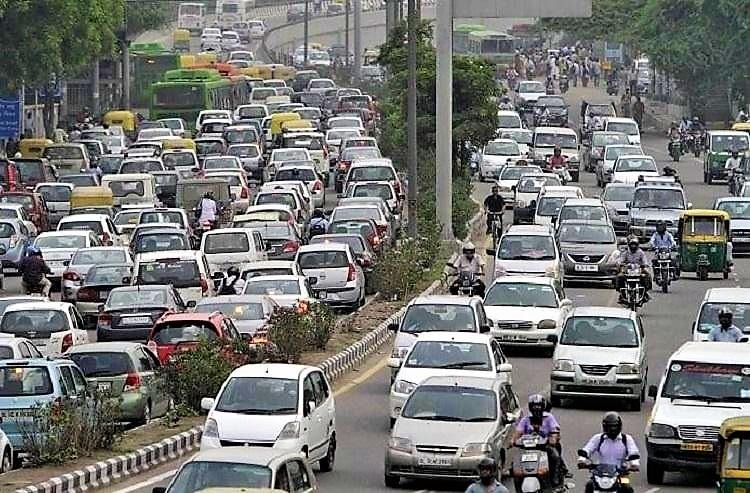car: (197, 352, 348, 480), (383, 370, 516, 483), (651, 341, 748, 473), (548, 303, 647, 409), (478, 277, 574, 356), (389, 289, 489, 351), (552, 219, 624, 290), (491, 216, 566, 280), (674, 209, 736, 282), (689, 282, 750, 343), (448, 240, 490, 301)
